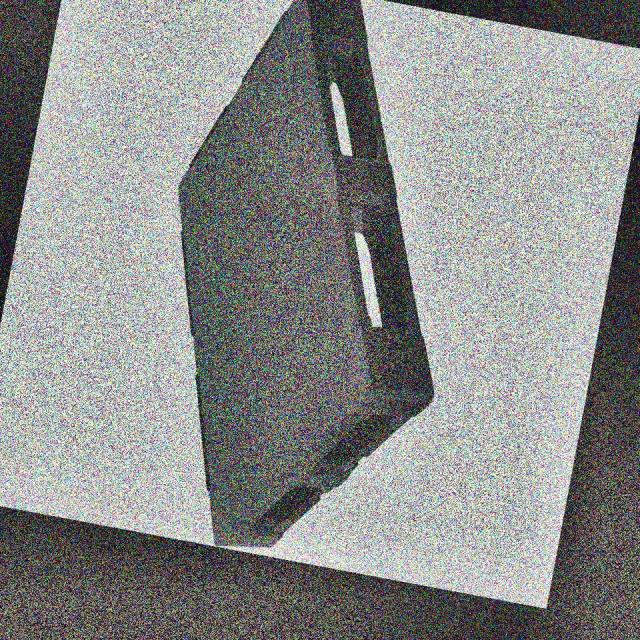non-igps: (173, 0, 442, 552)
